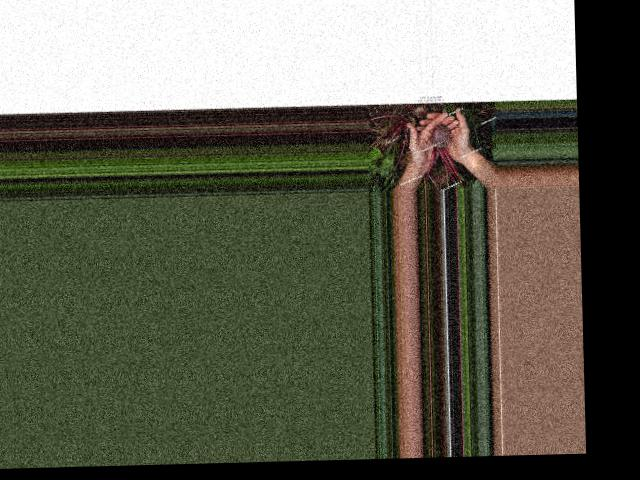beet: (424, 122, 465, 188)
